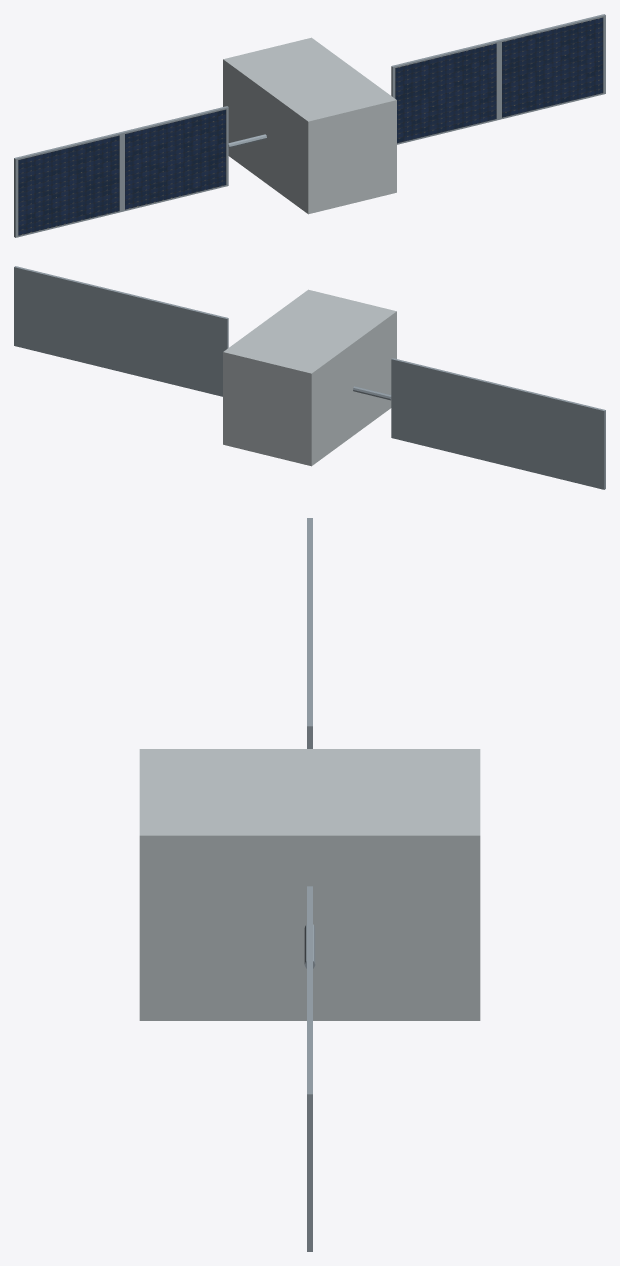
File: ref-firefly-62701.glb
The picture shows the model from 3 angles, top to bottom: view 1: azimuth 30°, elevation 25°; view 2: azimuth 150°, elevation 25°; view 3: azimuth 270°, elevation 25°; orthographic projection. The views are drawn at different scales.
Visible parts, largest first — view 1: Photovoltaic laminates (×4), Spacecraft body, Array frame (×4); view 2: Array frame (×4), Spacecraft body; view 3: Spacecraft body, Array frame.
Part boxes in pixels (x1,y1,x2,y2): Photovoltaic laminates (×4): (18, 17, 603, 235); Spacecraft body: (223, 37, 396, 214); Array frame (×4): (14, 14, 605, 237); Array frame (×4): (14, 266, 605, 489); Spacecraft body: (223, 289, 396, 466); Spacecraft body: (139, 749, 480, 1020); Array frame: (307, 990, 312, 1251).
Bounding box in the file's own units: 2 × 0.3 × 0.5.
Materials: 3 (1 with a texture image).
